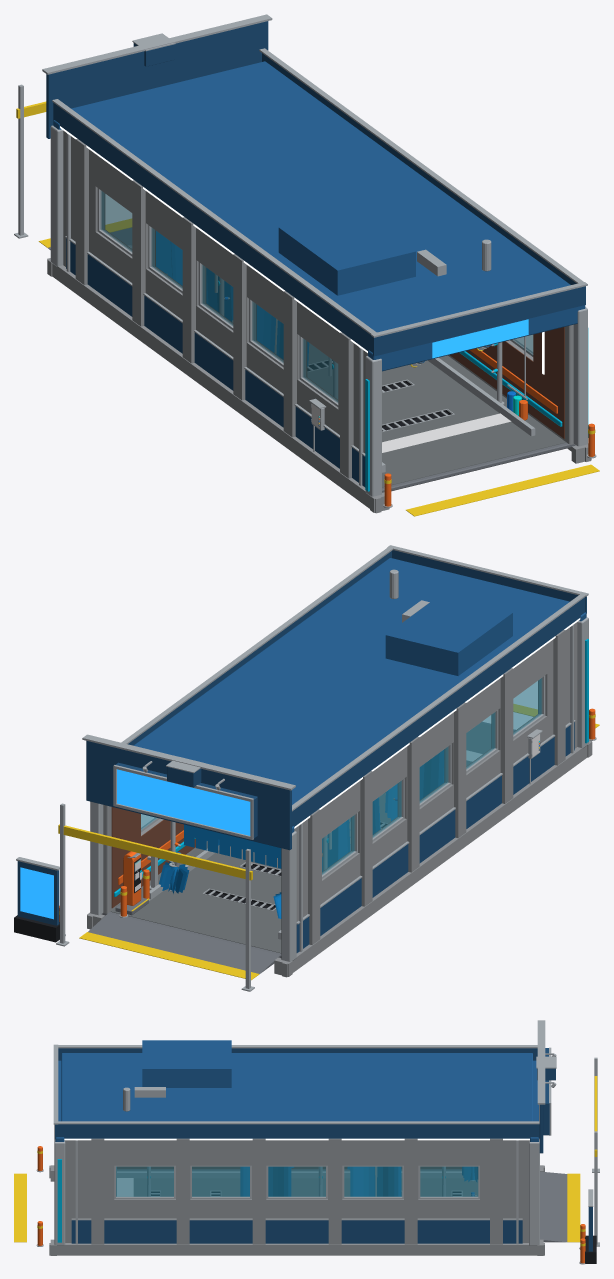
The model's file is ericrolph_cannon_car_wash.dae.
3 views of the same model, one above another, from view 1: azimuth 30°, elevation 25°; view 2: azimuth 150°, elevation 25°; view 3: azimuth 270°, elevation 25° (orthographic). The views are drawn at different scales.
Visible parts, largest first — view 1: ericrolph_cannon_car_wash_selector_visual; view 2: ericrolph_cannon_car_wash_selector_visual, ericrolph_cannon_car_wash_MitterStrips; view 3: ericrolph_cannon_car_wash_selector_visual.
Boxes of the visible parts, x1,y1,x2,y2 form: ericrolph_cannon_car_wash_selector_visual: (14, 14, 599, 516); ericrolph_cannon_car_wash_selector_visual: (14, 545, 599, 991); ericrolph_cannon_car_wash_MitterStrips: (184, 824, 337, 871); ericrolph_cannon_car_wash_selector_visual: (14, 1020, 599, 1264).
Size of the model in its own units: 8.82 by 22.35 by 6.49.
